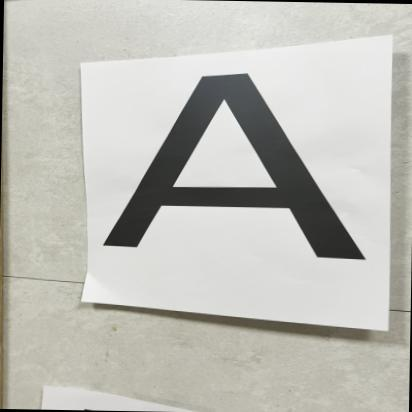seat: (85, 59, 373, 265)
